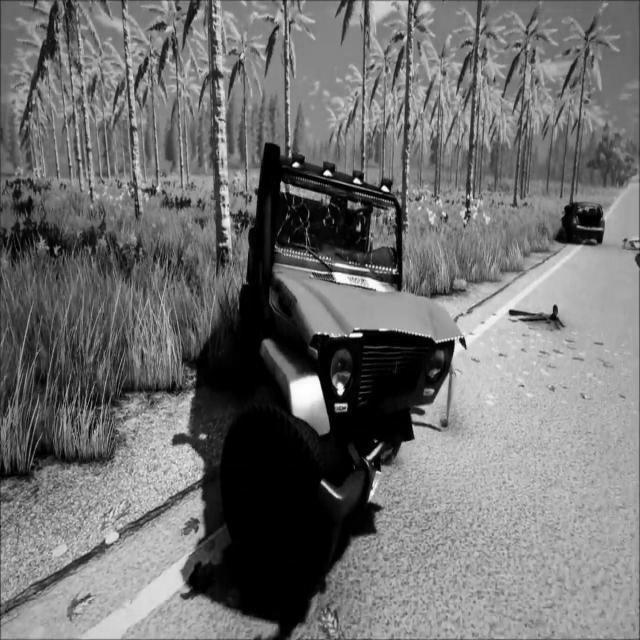accident: (219, 138, 463, 600)
vehicle: (555, 194, 609, 254)
